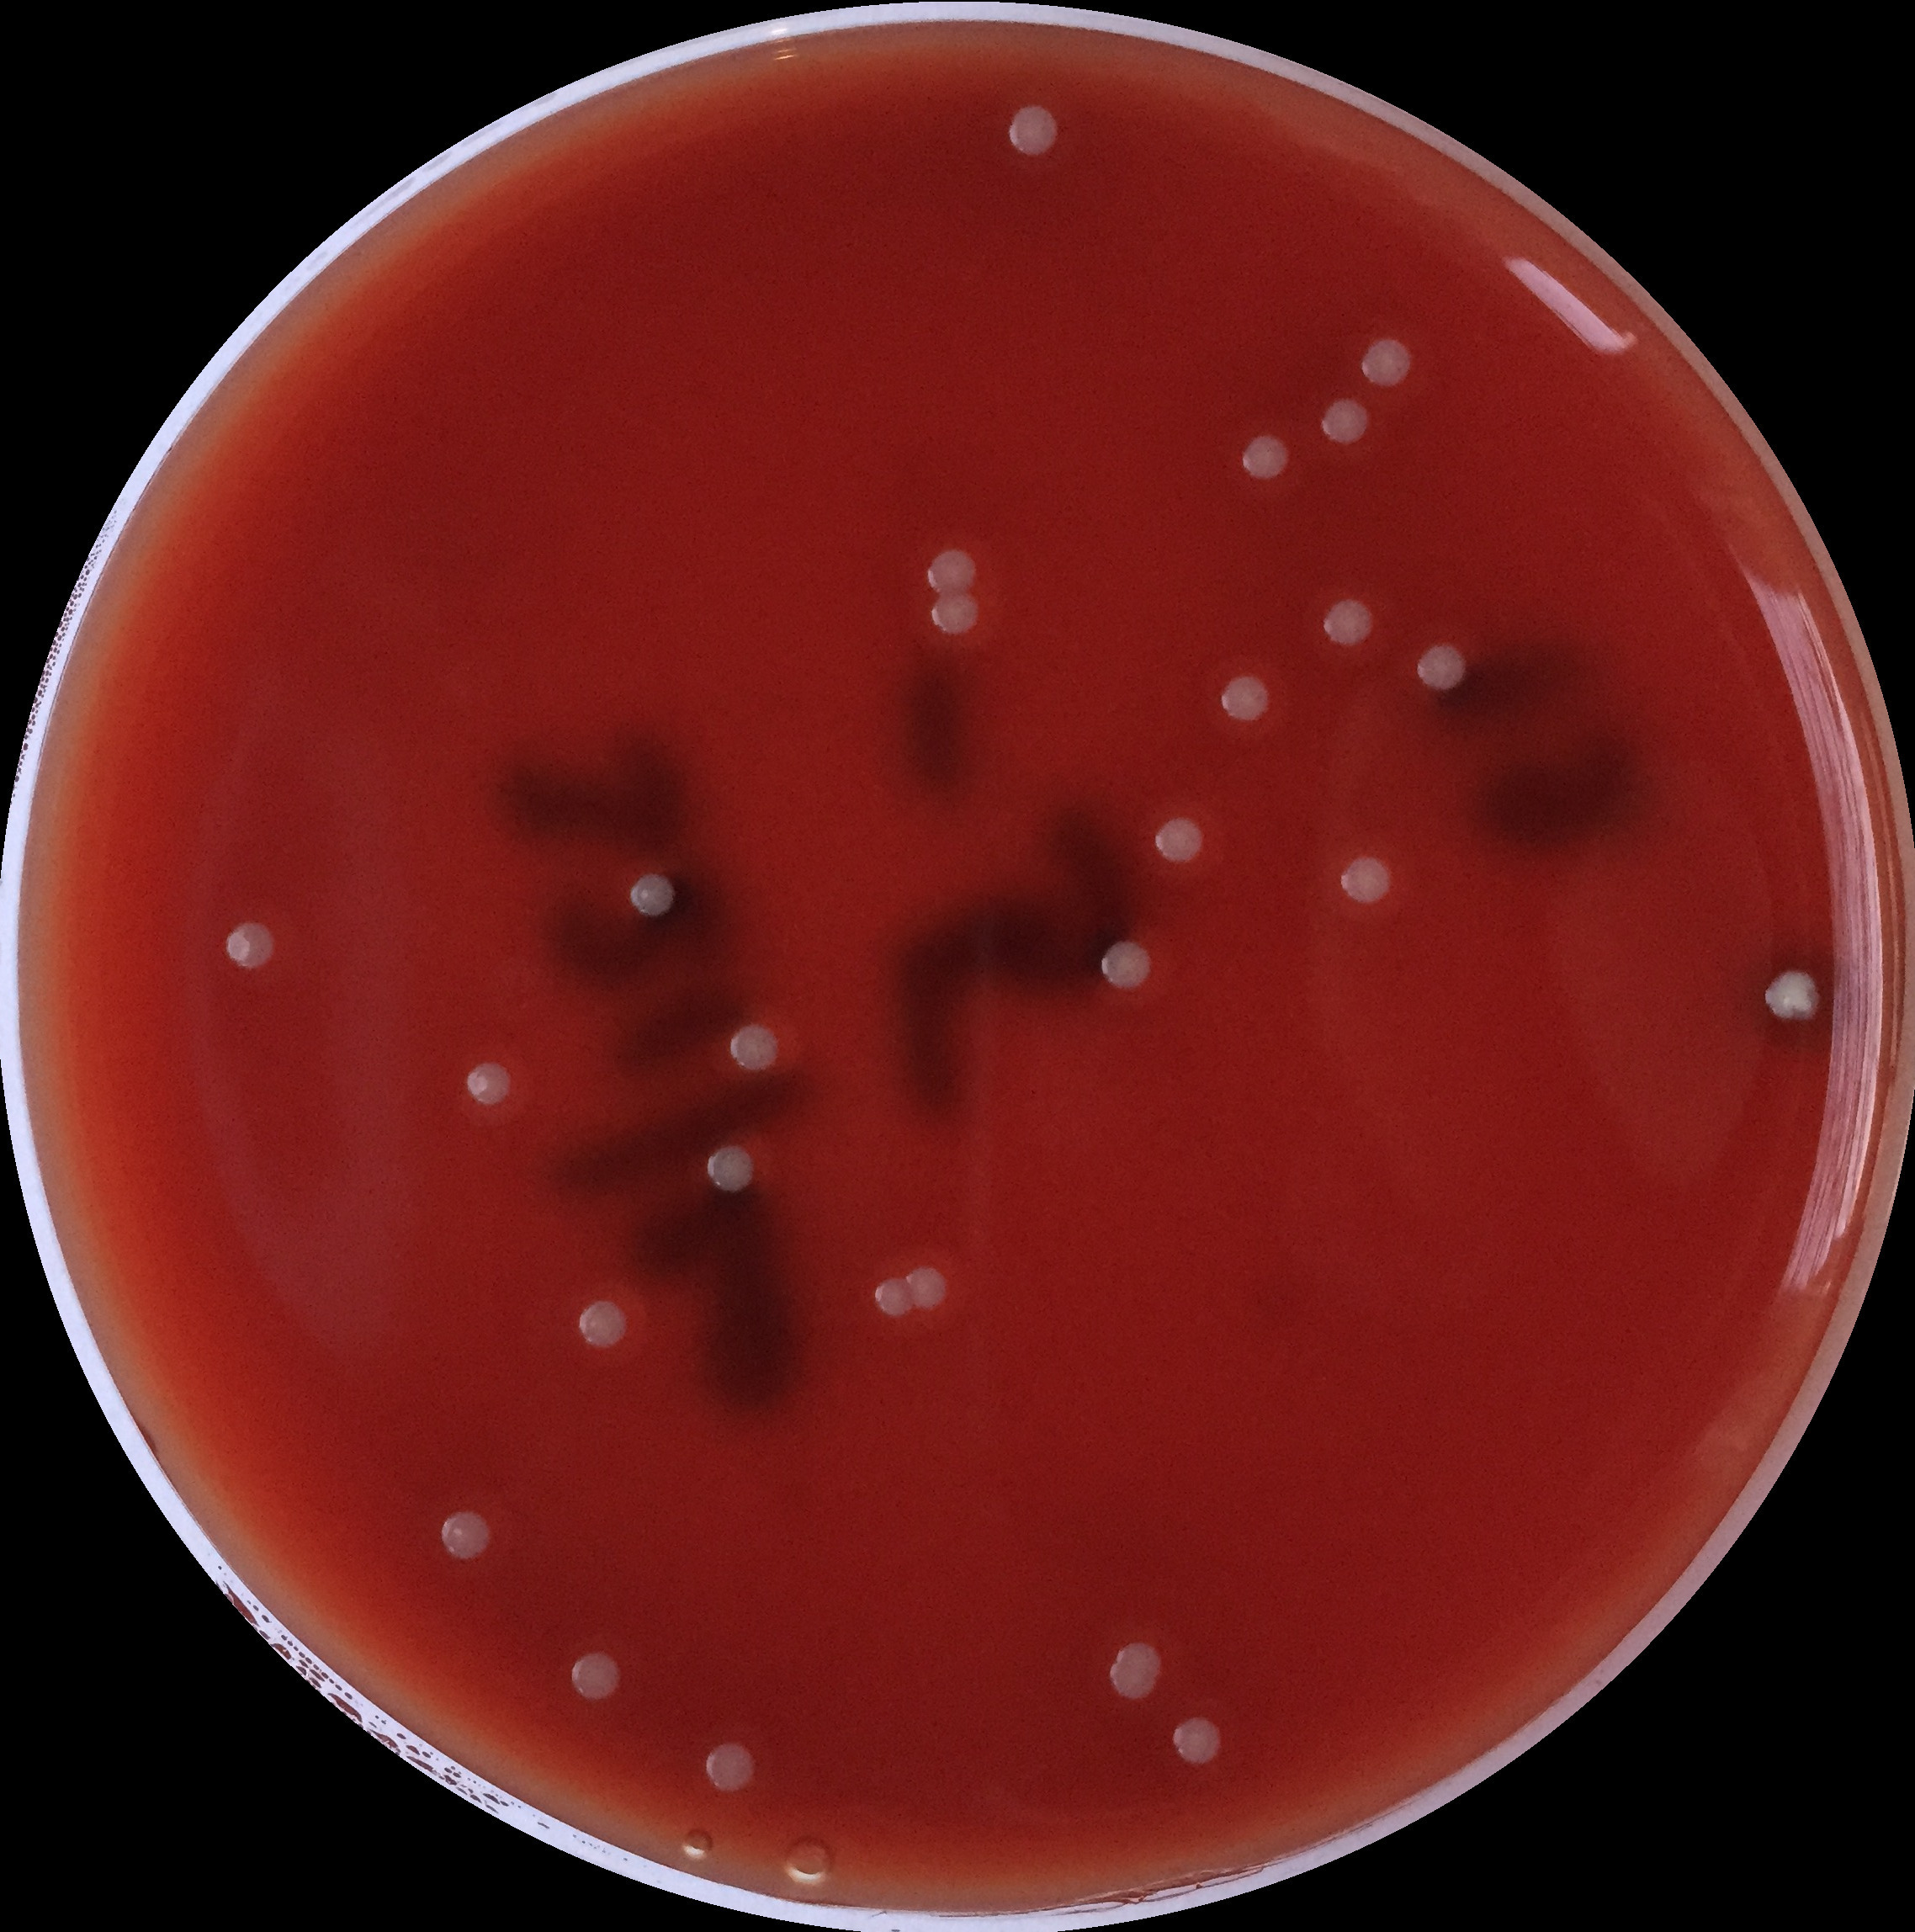sp21: (1759, 964, 1826, 1026), (219, 915, 284, 977), (437, 1502, 498, 1564), (1357, 333, 1417, 394), (1333, 852, 1398, 908), (1147, 813, 1212, 870), (700, 1143, 763, 1197), (566, 1650, 628, 1704), (1319, 594, 1377, 650), (1413, 638, 1471, 694), (1315, 393, 1375, 447), (724, 1020, 784, 1075), (1233, 433, 1294, 486), (1005, 103, 1061, 160), (1170, 1715, 1228, 1769), (573, 1297, 631, 1352), (1098, 940, 1157, 992), (701, 1739, 758, 1793), (922, 547, 982, 598), (1098, 1659, 1159, 1708), (1217, 671, 1271, 726), (458, 1061, 519, 1106), (926, 593, 982, 642), (1105, 1637, 1164, 1680), (903, 1261, 952, 1311), (624, 875, 679, 917), (870, 1276, 915, 1320)
